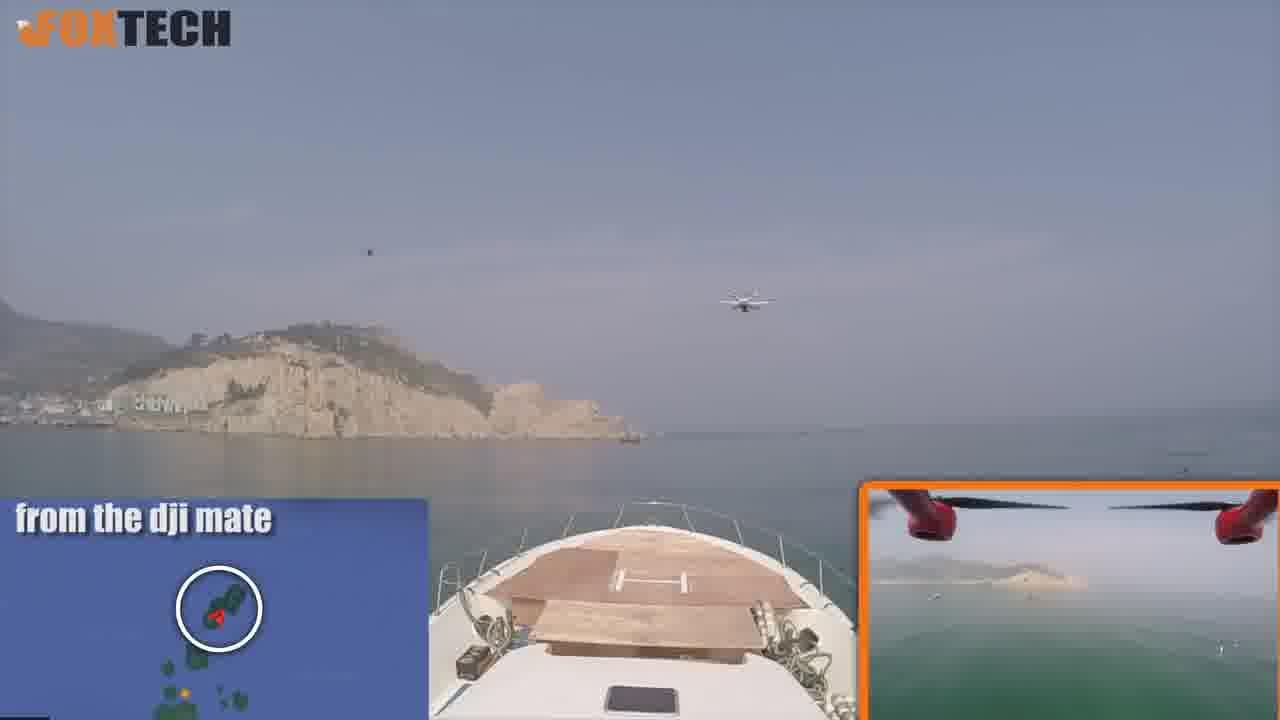drone: (716, 285, 776, 316)
